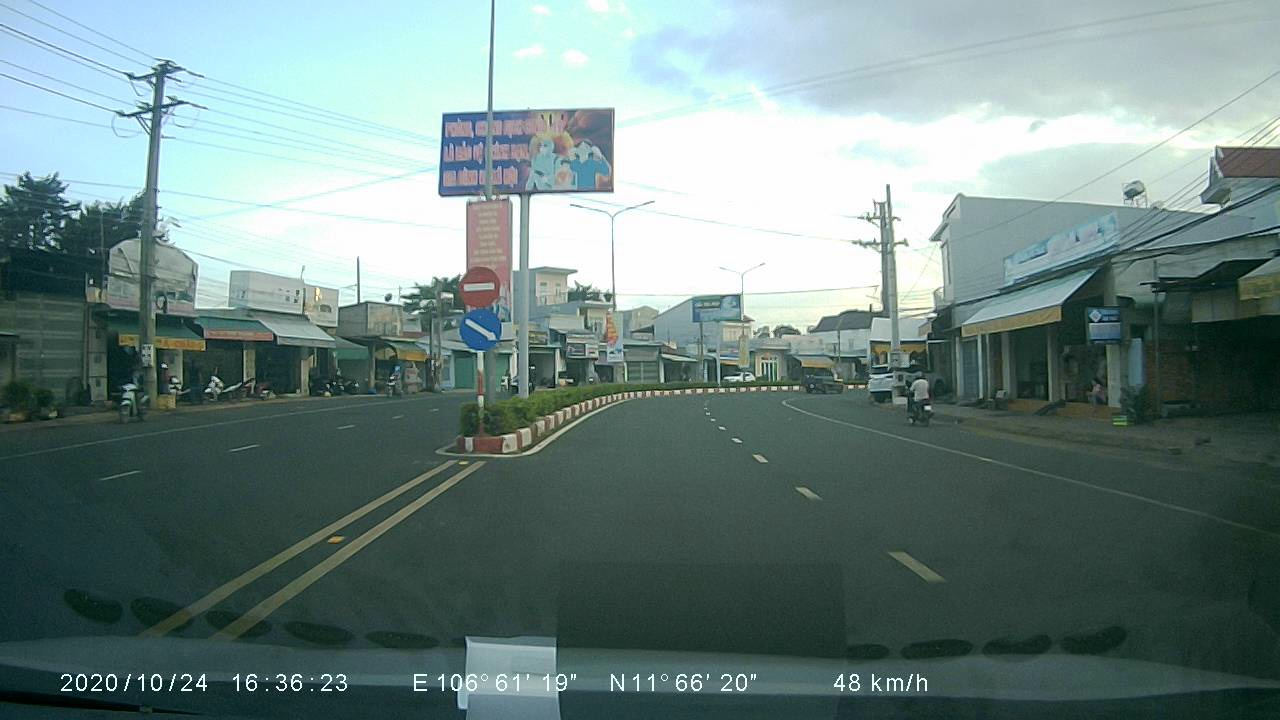Cam di nguoc chieu: (456, 261, 504, 307)
Huong di phai re phai: (457, 308, 509, 353)
